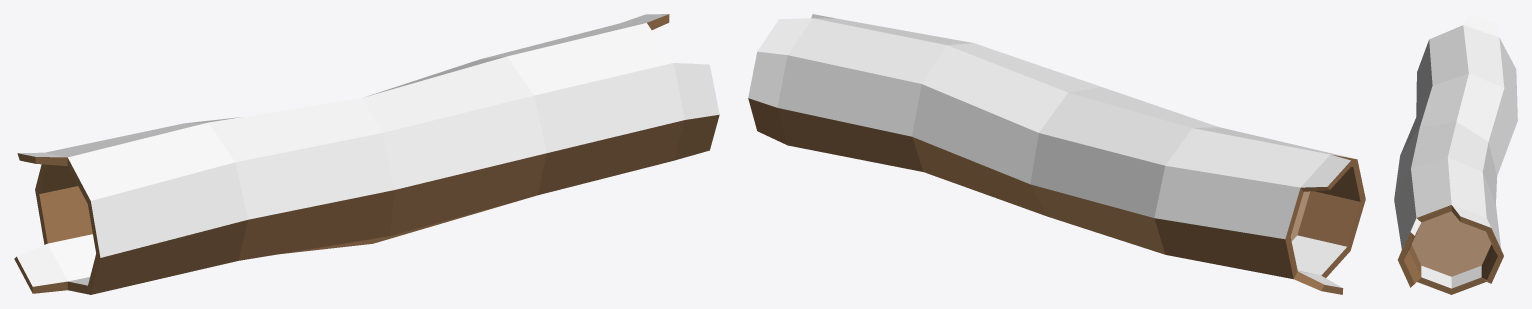
Rendered from Pine_Log_Snow_06_LOD.fbx.
3 views of the same model, side by side, from view 1: azimuth 30°, elevation 25°; view 2: azimuth 150°, elevation 25°; view 3: azimuth 270°, elevation 25° (orthographic). The views are drawn at different scales.
Parts seen in each view (by area): view 1: Pine_Log_Snow_06_LOD0; view 2: Pine_Log_Snow_06_LOD0; view 3: Pine_Log_Snow_06_LOD0.
Boxes of the visible parts, x1,y1,x2,y2 form: Pine_Log_Snow_06_LOD0: (14,14,719,294); Pine_Log_Snow_06_LOD0: (748,14,1365,294); Pine_Log_Snow_06_LOD0: (1394,14,1517,294).
Size of what is drawn, in the model's own units: 186 by 42.33 by 48.81.
